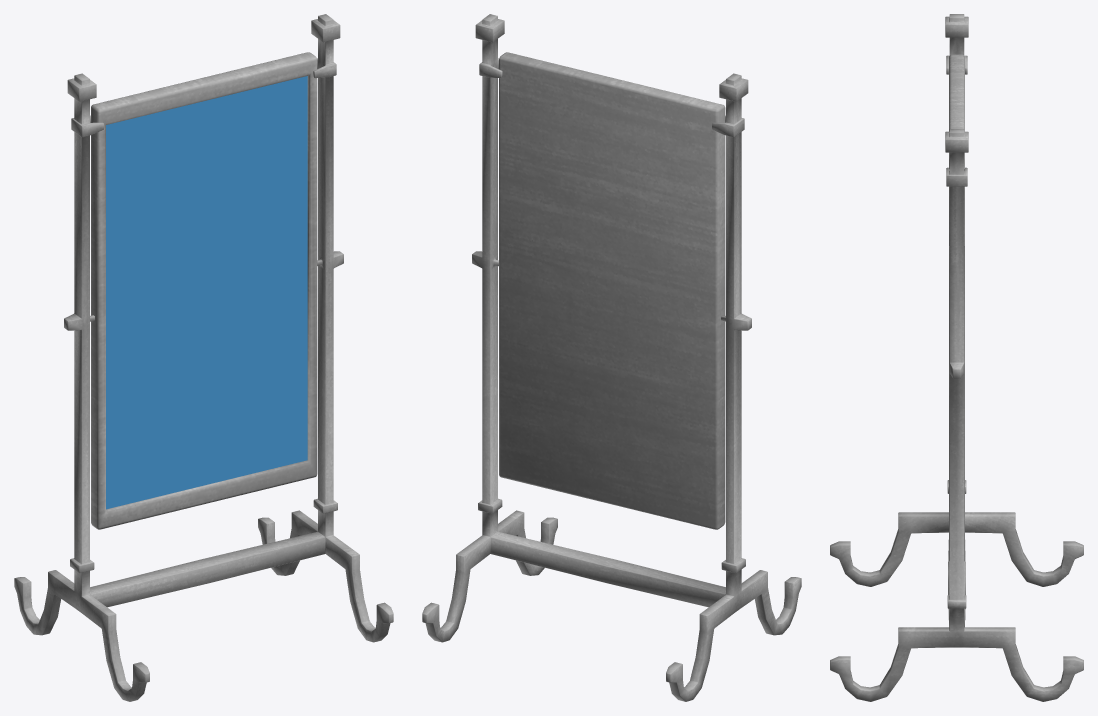
File: Mirror.fbx
3 views of the same model, side by side, from view 1: azimuth 30°, elevation 25°; view 2: azimuth 150°, elevation 25°; view 3: azimuth 270°, elevation 25° (orthographic). The views are drawn at different scales.
Visible parts, largest first — view 1: Mirror, MirrorStand; view 2: Mirror, MirrorStand; view 3: MirrorStand, Mirror.
Boxes of the visible parts, x1,y1,x2,y2 form: Mirror: (91,52,317,529); MirrorStand: (14,14,393,701); Mirror: (499,52,725,529); MirrorStand: (422,14,801,701); MirrorStand: (830,14,1083,701); Mirror: (949,54,964,561).
Size of the model in its own units: 1.45 by 3.59 by 1.76.
